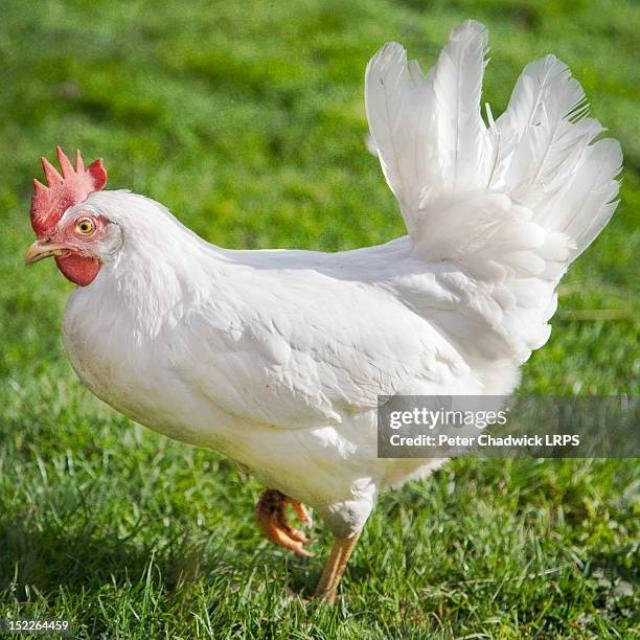Chicken: (24, 19, 629, 603)
